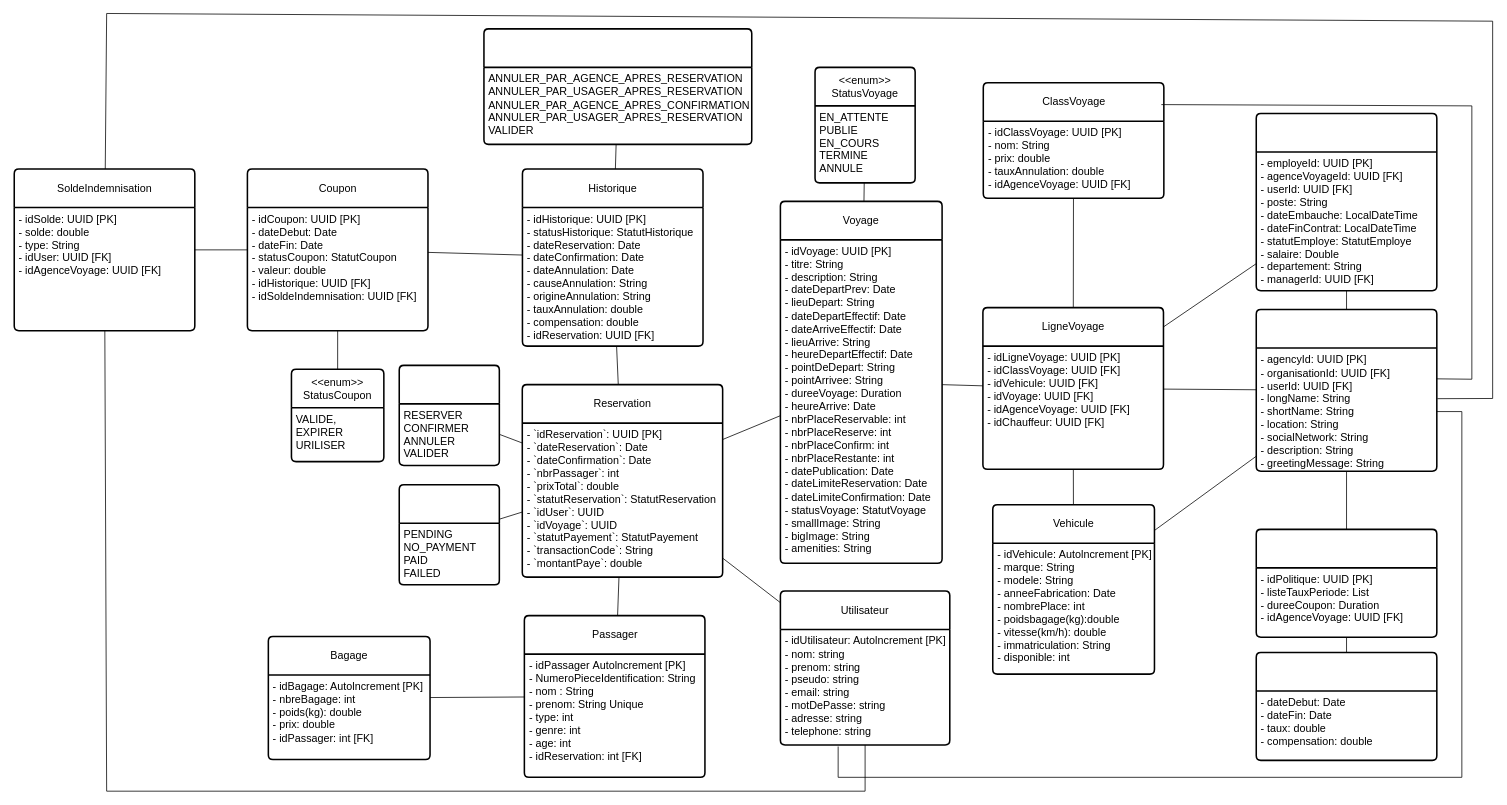
This 1507x805 diagram has some shape labels left out. The shapes that lost their labels are listed below. From the top down, each one's box as (x1, y1, x2, y2) in pixels, then its label:
(483, 28, 752, 145): <<enum>> StatusHistorique
(1255, 112, 1437, 291): EmployéAgenceVoyage
(1255, 308, 1437, 472): AgenceVoyage
(398, 364, 500, 466): <<enum>> StatusReservation
(398, 484, 500, 585): <<enum>> StatusPayement
(1255, 528, 1437, 638): PolitiqueAnnulation
(1255, 651, 1437, 761): TauxPeriode
